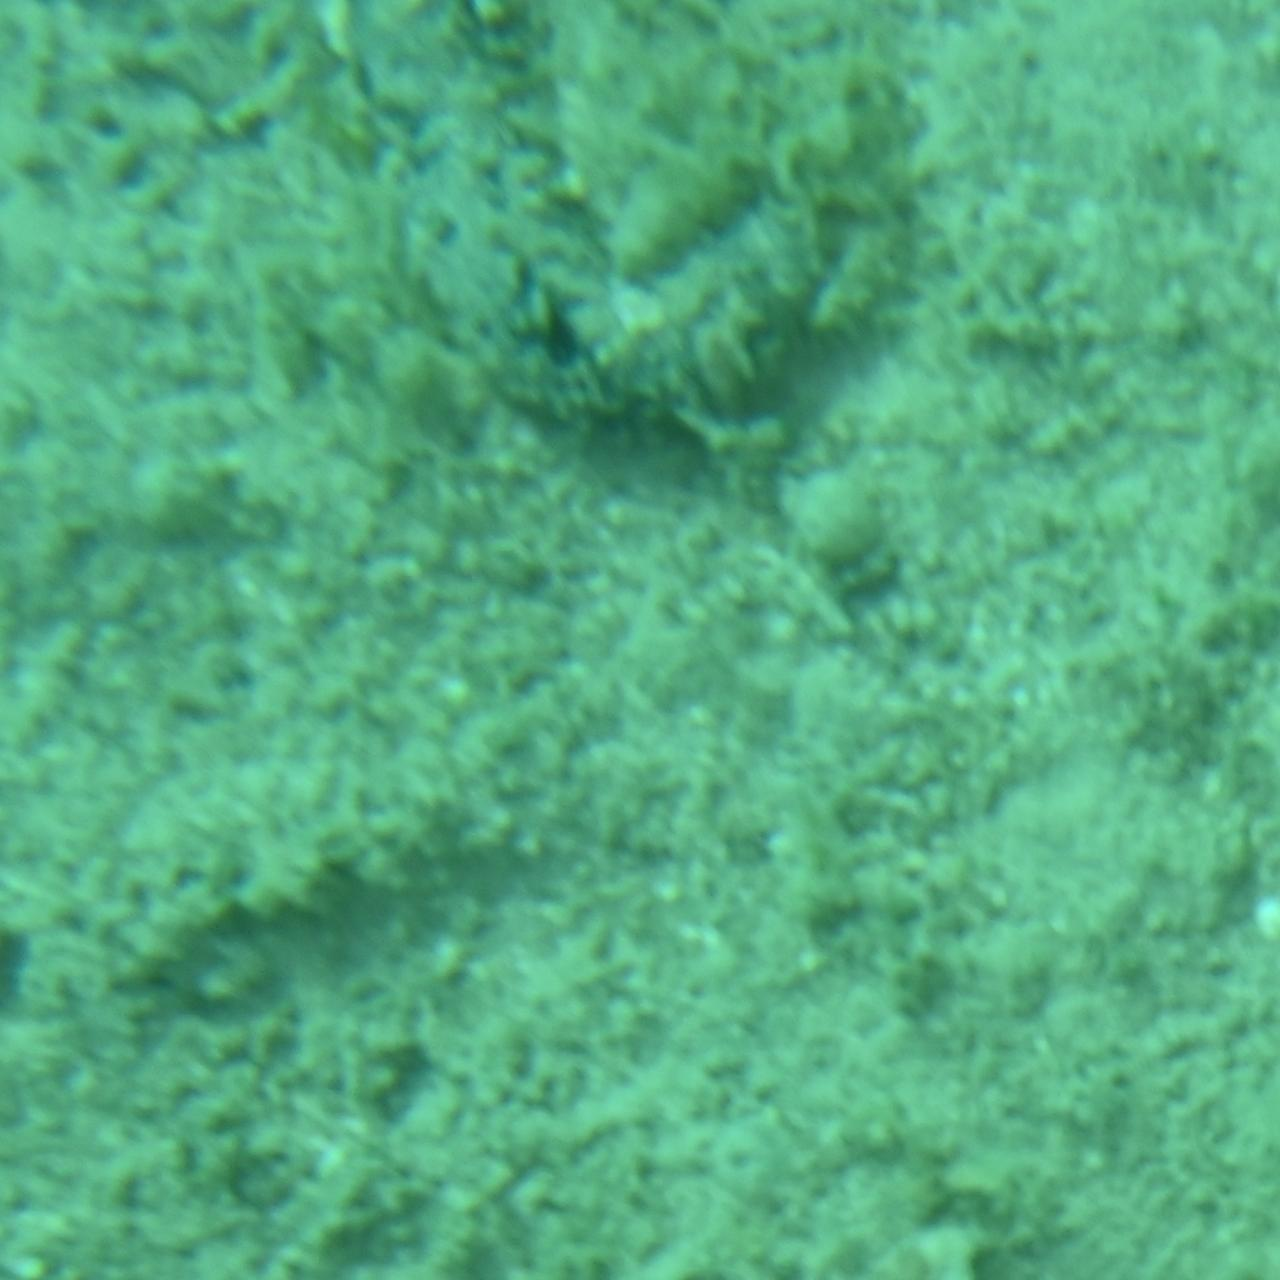Holothuria tubulosa: (340, 2, 940, 451)
